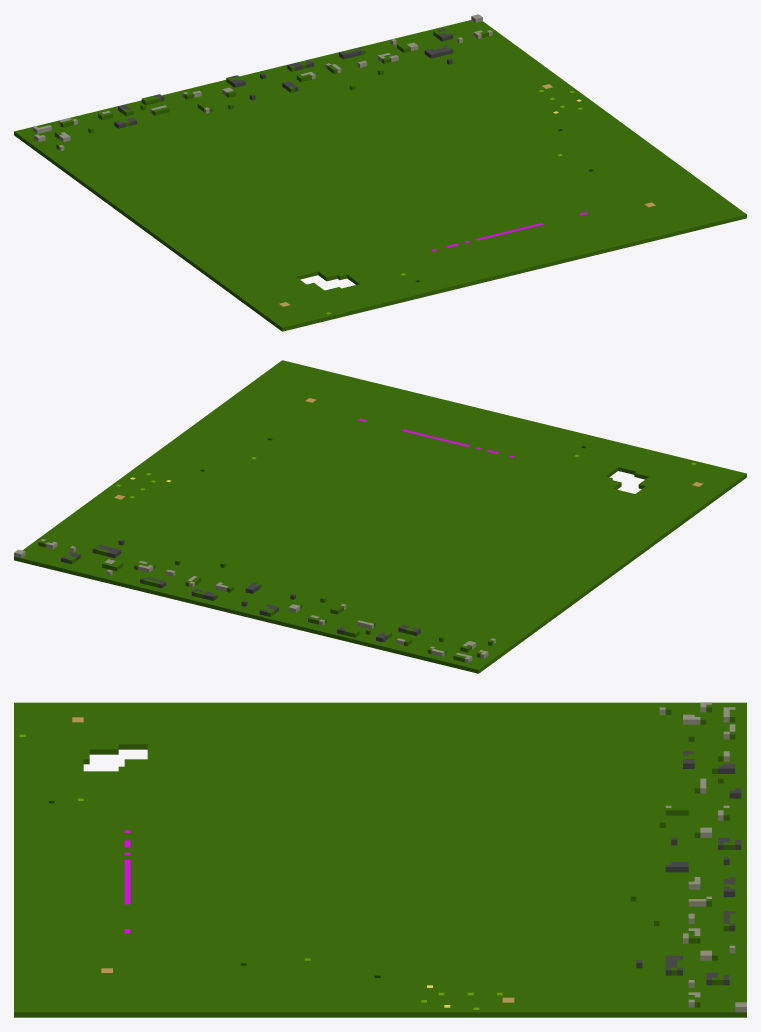
The model's file is Tiles 1 sol.obj.
3 renders of one model, top to bottom at view 1: azimuth 30°, elevation 25°; view 2: azimuth 150°, elevation 25°; view 3: azimuth 270°, elevation 25°, orthographic. The views are drawn at different scales.
Visible parts, largest first — view 1: Tiles 1 sol; view 2: Tiles 1 sol; view 3: Tiles 1 sol.
Part boxes in pixels (<box>): Tiles 1 sol: <box>14,14,746,331</box>; Tiles 1 sol: <box>14,360,746,673</box>; Tiles 1 sol: <box>14,702,746,1017</box>.
Size of the model in its own units: 126 by 2 by 126.
Materials: 1 (1 with a texture image).
